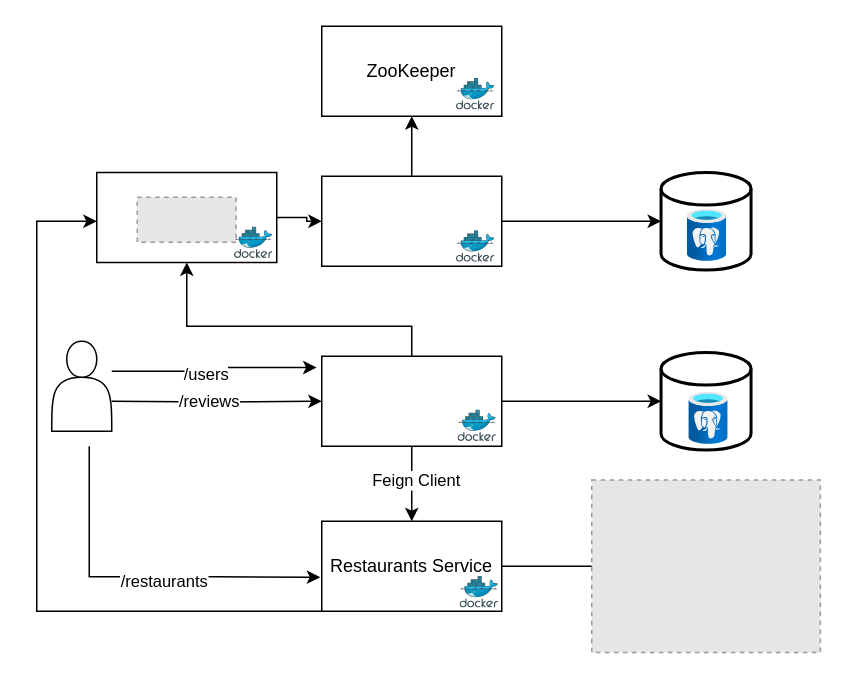
The diagram is 848 pixels wide and 680 high, and some of its shapes have lost their labels. Grey dashed boxes stand in for pictures. The shapes that lost their labels are listed below. From the top down, each one's box as (x1, y1, x2, y2) in pixels, then its label:
(320, 175, 502, 266): Logging Service
(320, 355, 502, 446): Review Service
